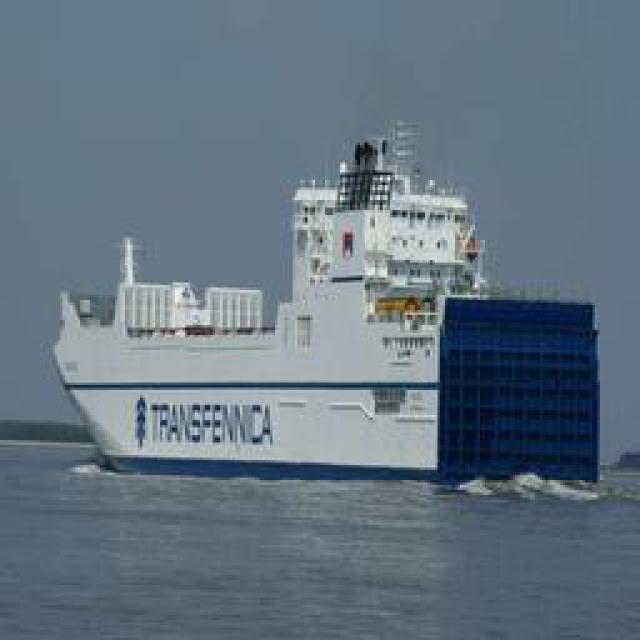Ship: (55, 123, 540, 478)
